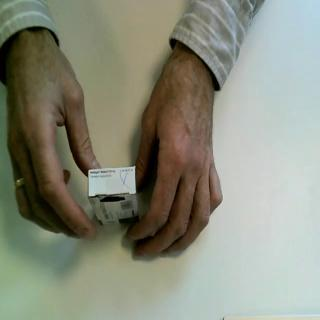nobligan_retard200mg: (88, 165, 143, 229)
